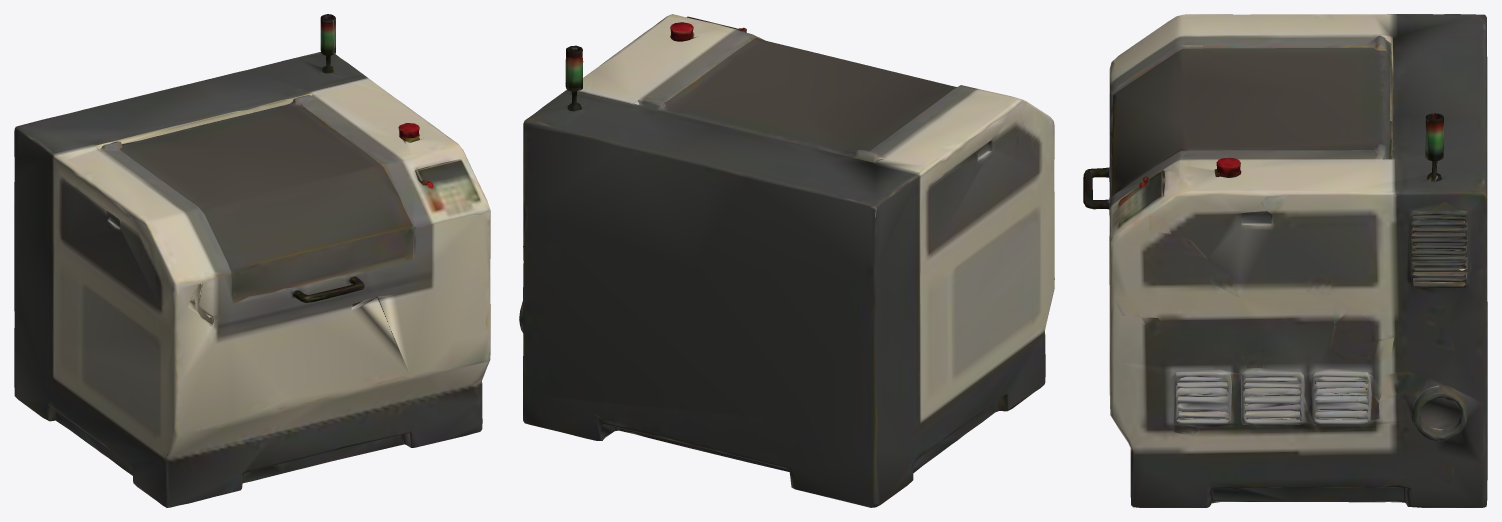
Rendered from laser_cutter.glb.
3 views of the same model, side by side, from view 1: azimuth 30°, elevation 25°; view 2: azimuth 150°, elevation 25°; view 3: azimuth 270°, elevation 25° (orthographic). The views are drawn at different scales.
Parts seen in each view (by area): view 1: geometry_0; view 2: geometry_0; view 3: geometry_0.
Boxes of the visible parts, x1,y1,x2,y2 form: geometry_0: (14,14,490,507); geometry_0: (519,14,1054,507); geometry_0: (1083,14,1487,507).
Size of the model in its own units: 1 by 0.9558 by 0.9187.
1 material, 1 textured.
